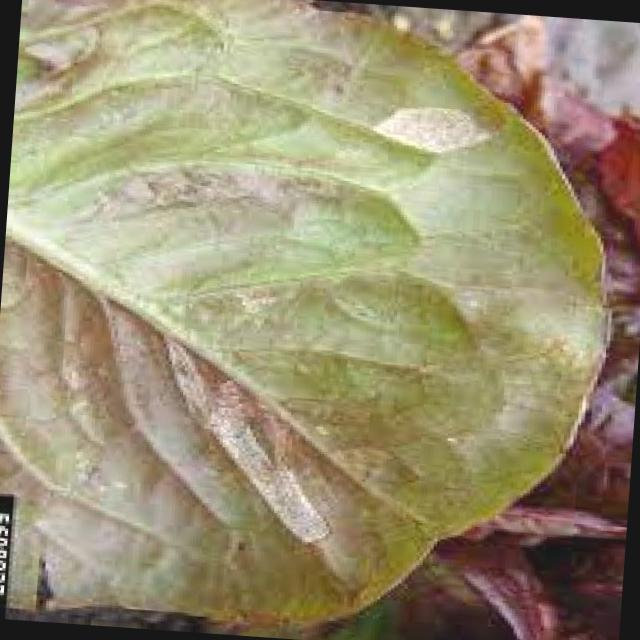Downy_mildew: (31, 67, 477, 532)
